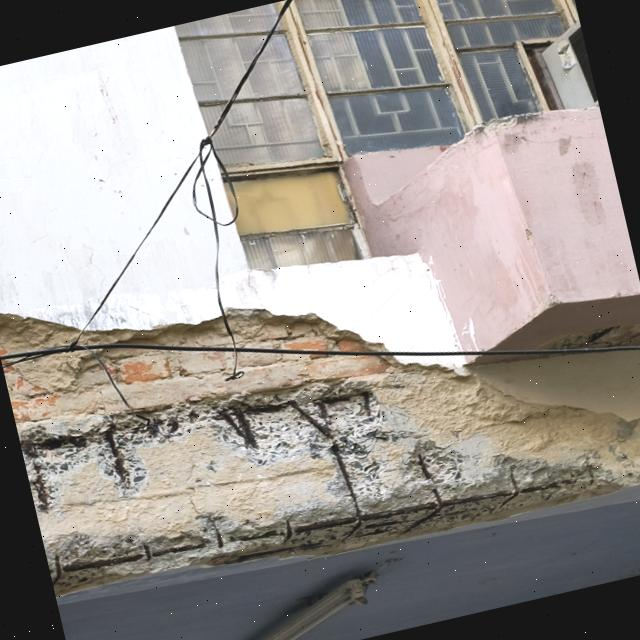peeling: (519, 224, 536, 249)
spalling: (0, 308, 640, 592), (533, 322, 640, 356)
